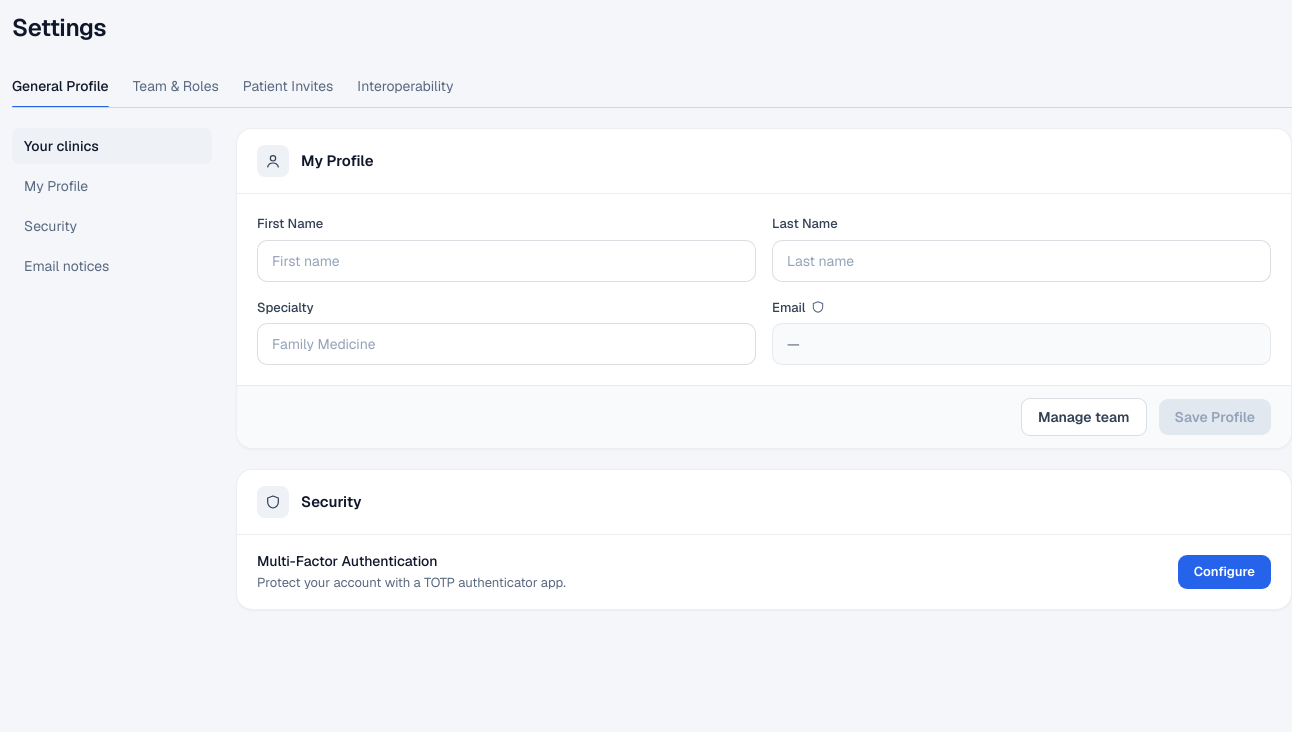
Scenario: Settings team and roles › offers team invitations and their history to clinic admins
Click the button "Team & Roles". click: [176, 86]
box: top-left (133, 64), bottom-right (219, 108)
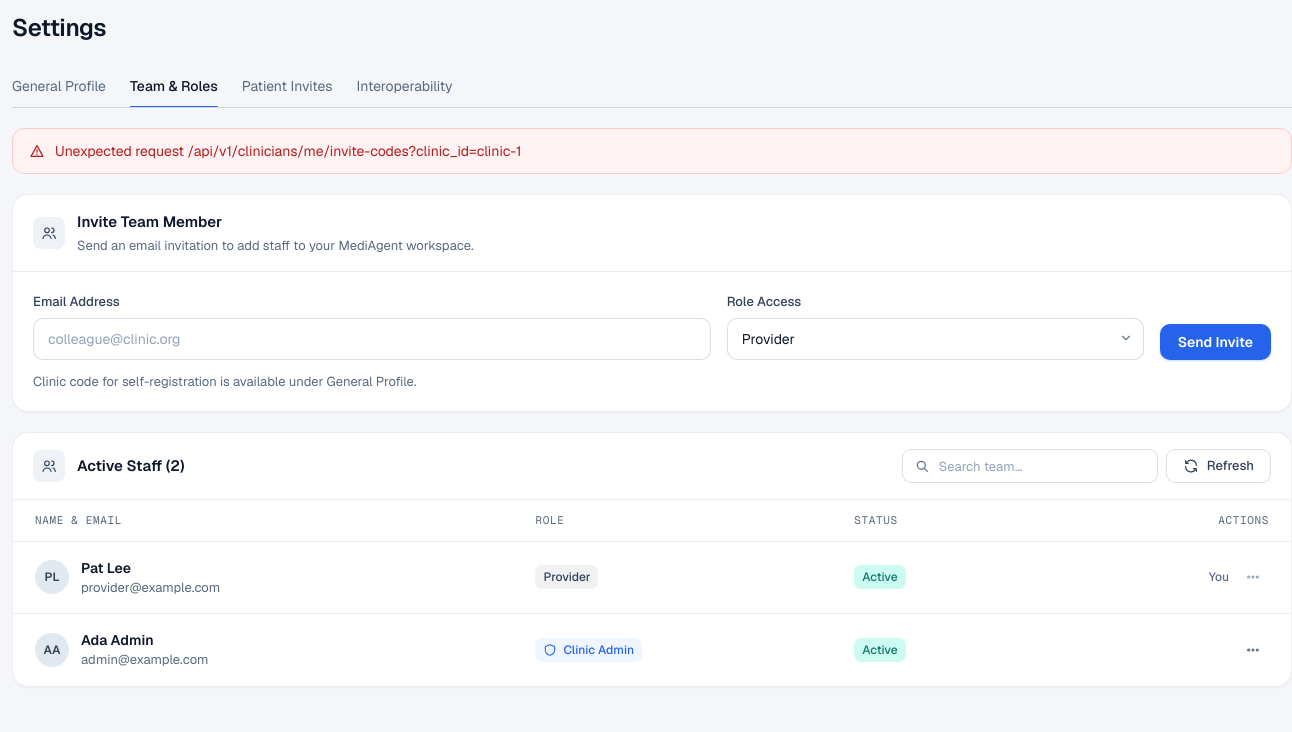
Check: the heading "Active Staff (2)" is shown, box top-left (77, 455), bottom-right (184, 477)
Check: the heading "Invite Team Member" is shown, box top-left (77, 212), bottom-right (222, 231)
Check: the button "Send Invite" is shown, box top-left (1160, 324), bottom-right (1271, 360)
